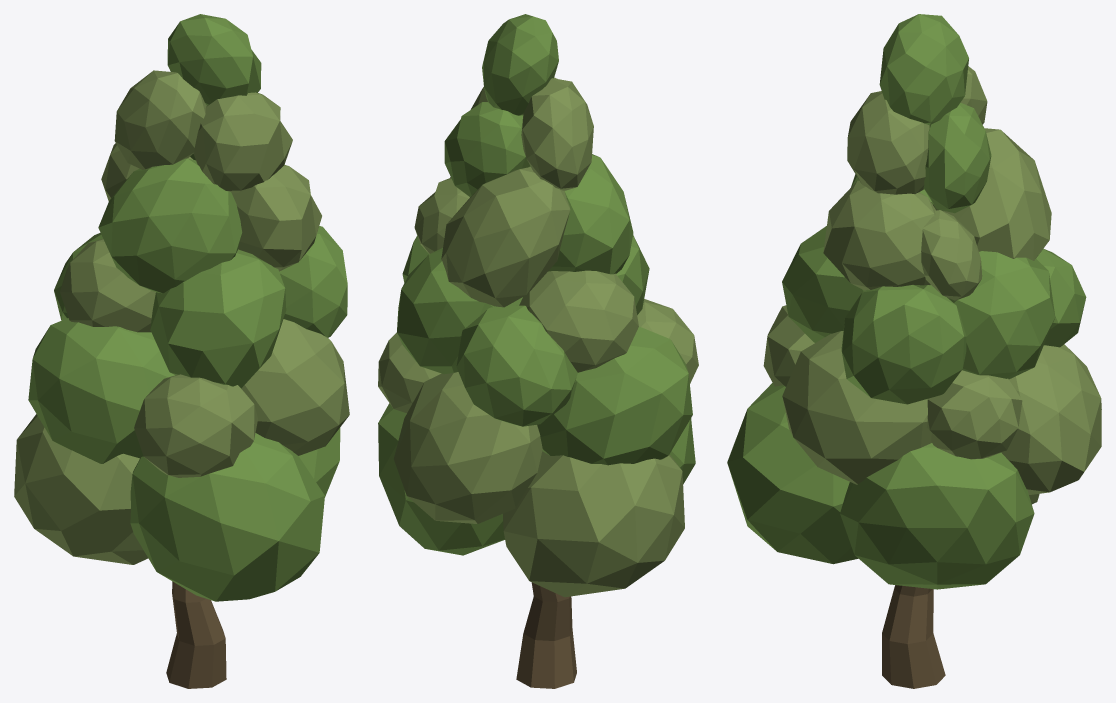
The model's file is tree3 1.fbx.
3 renders of one model, left to right at view 1: azimuth 30°, elevation 25°; view 2: azimuth 150°, elevation 25°; view 3: azimuth 270°, elevation 25°, orthographic. The views are drawn at different scales.
Parts seen in each view (by area): view 1: Poplar_Tree:Mesh; view 2: Poplar_Tree:Mesh; view 3: Poplar_Tree:Mesh.
Boxes of the visible parts, x1,y1,x2,y2 form: Poplar_Tree:Mesh: (14, 14, 349, 688); Poplar_Tree:Mesh: (378, 14, 698, 688); Poplar_Tree:Mesh: (727, 14, 1101, 688).
Size of the model in its own units: 19.82 by 42.81 by 21.8.
